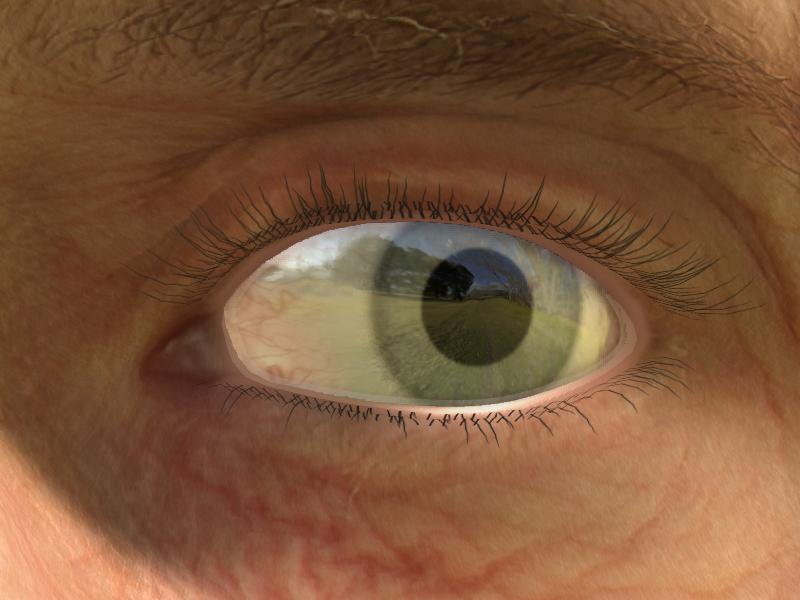eye: (375, 221, 587, 404)
